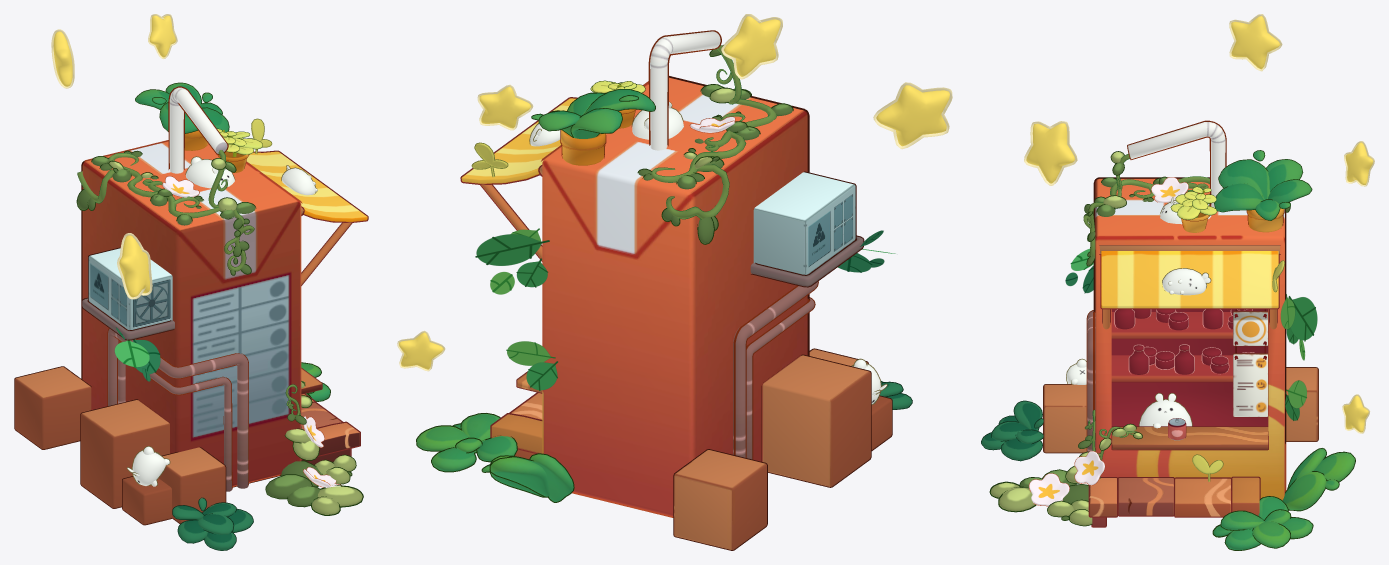
File: juice_carton_shop.glb
3 renders of one model, left to right at view 1: azimuth 30°, elevation 25°; view 2: azimuth 150°, elevation 25°; view 3: azimuth 270°, elevation 25°, orthographic. The views are drawn at different scales.
Parts seen in each view (by area): view 1: Juice_Box, Plant_3, Box.002, Pipeline, Air-conditioning, Box.003, Box.001, Veg_1, Plant_2, Box, Star, Board.001 (+11 smaller); view 2: Juice_Box, Box.002, Air-conditioning, Box.003, Plant_3, Plant_2, Pipeline, Veg_2, Star, Veg_3, Star.003, Star.001 (+8 smaller); view 3: Juice_Box, Plant_3, Plant_2, Veg_2, Box.001, Veg_3, Veg_1, Board.003, Star, Board.002, Star.003, Box.003 (+15 smaller).
Part boxes in pixels (box(x1,y1,x2,y2)): Juice_Box: box(81, 86, 368, 487); Plant_3: box(76, 150, 363, 515); Box.002: box(80, 399, 169, 508); Pipeline: box(107, 328, 248, 491); Air-conditioning: box(81, 247, 174, 340); Box.003: box(14, 366, 91, 449); Box.001: box(159, 447, 226, 523); Veg_1: box(172, 497, 253, 550); Plant_2: box(135, 82, 229, 150); Box: box(122, 476, 172, 525); Star: box(117, 233, 152, 299); Board.001: box(301, 421, 360, 464); Juice_Box: box(460, 30, 809, 517); Box.002: box(761, 354, 871, 487); Air-conditioning: box(750, 171, 864, 287); Box.003: box(673, 449, 767, 550); Plant_3: box(637, 45, 793, 244); Plant_2: box(531, 89, 655, 165); Pipeline: box(733, 281, 818, 459); Veg_2: box(416, 413, 517, 472); Star: box(873, 82, 952, 149); Veg_3: box(481, 453, 574, 502); Star.003: box(721, 14, 782, 79); Star.001: box(477, 84, 533, 130); Juice_Box: box(1093, 120, 1286, 500); Plant_3: box(989, 151, 1290, 526); Plant_2: box(1214, 150, 1312, 232); Veg_2: box(1212, 496, 1313, 550); Box.001: box(1043, 384, 1086, 453); Veg_3: box(1282, 448, 1355, 511); Veg_1: box(981, 400, 1043, 461); Board.003: box(1174, 477, 1231, 517); Star: box(1024, 121, 1077, 185); Board.002: box(1118, 477, 1174, 516); Star.003: box(1229, 14, 1282, 71); Box.003: box(1286, 367, 1318, 441).
Bounding box in the file's own units: 3.26 × 4.15 × 3.52.
Materials: 4 (4 with a texture image).
